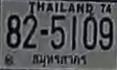0: (82, 16, 96, 48)
1: (71, 16, 76, 50)
2: (22, 14, 36, 48)
5: (50, 15, 64, 48)
8: (6, 14, 20, 47)
9: (98, 16, 112, 49)
SKN: (30, 52, 89, 68)
